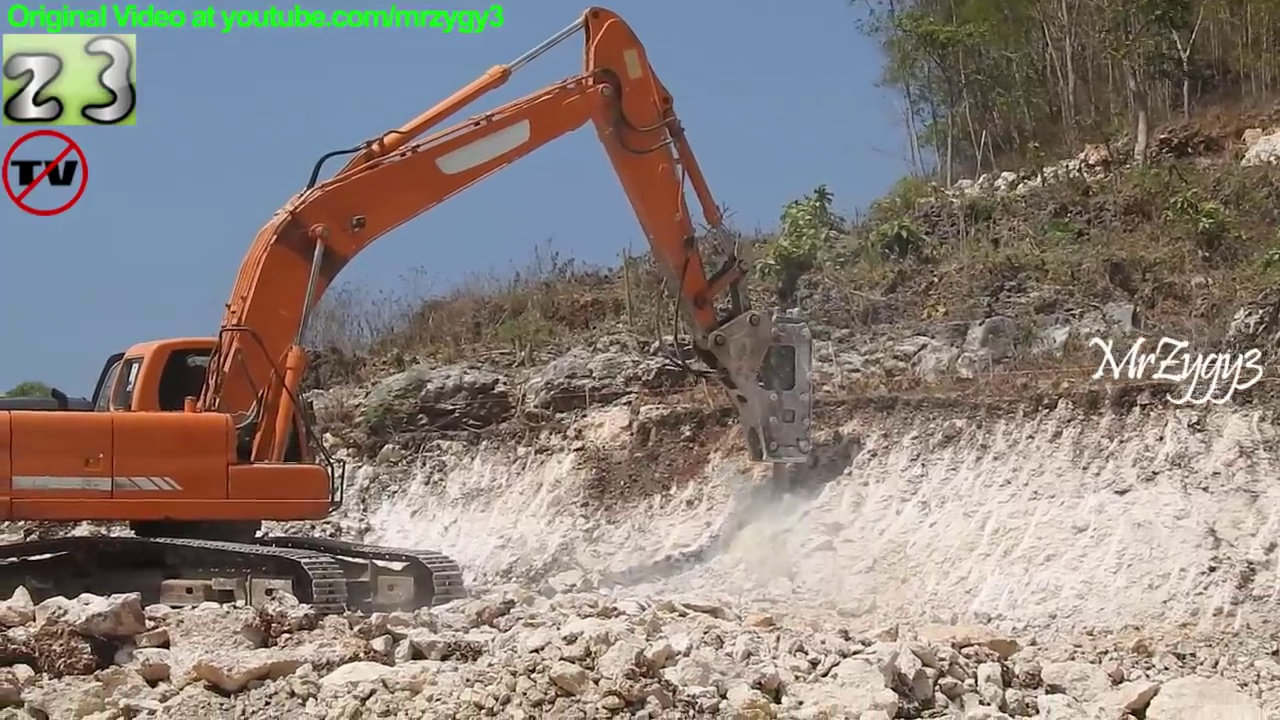excavator: (1, 6, 820, 637)
